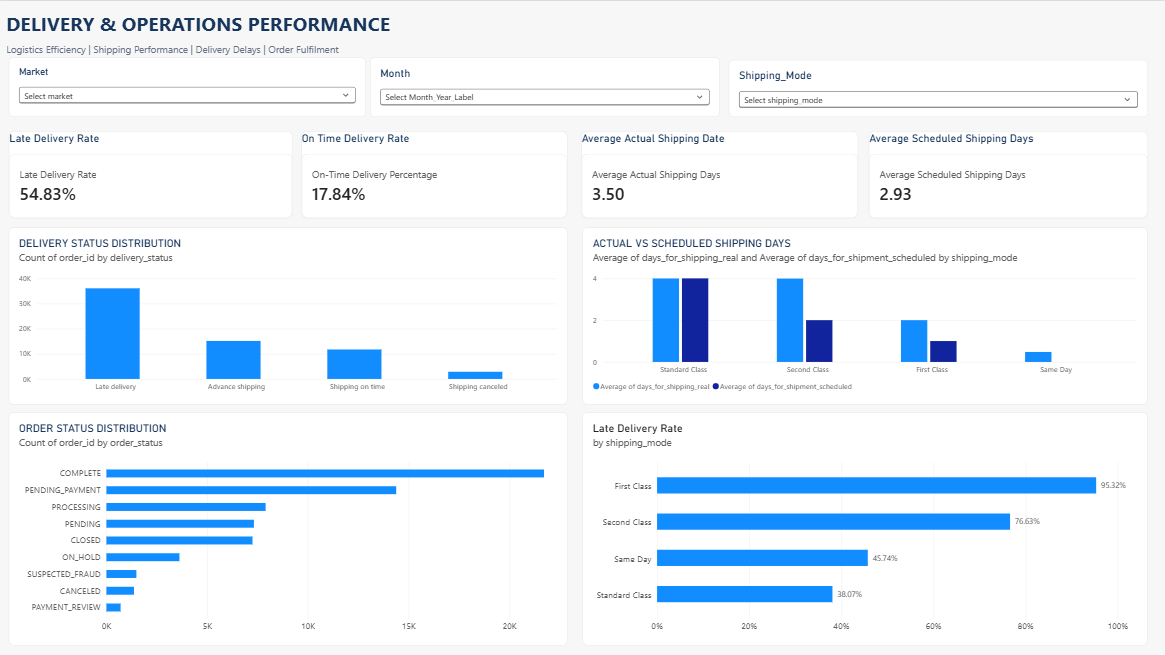

Layout of this report page (visuals, bound fields, positions):
{"tool":"powerbi","page":{"name":"Delivery & Operations Analysis","canvas":[1920,1080],"ordinal":1},"visuals":[{"type":"cardVisual","title":"Late Delivery Rate","fields":{"Data":["supply_chain_analytics supply_chain_orders.Late Delivery Rate"]},"box":[14,214,468,144],"z":0},{"type":"textbox","box":[10.9,14.5,651.5,52.5],"z":1000},{"type":"textbox","box":[10.9,67,562.8,30.8],"z":2000},{"type":"cardVisual","title":"Average Scheduled Shipping Days","fields":{"Data":["supply_chain_analytics supply_chain_orders.Average Scheduled Shipping Days"]},"box":[1430,214,460,144],"z":3000},{"type":"cardVisual","title":"Average Actual Shipping Date","fields":{"Data":["supply_chain_analytics supply_chain_orders.Average Actual Shipping Days"]},"box":[958,214,456,144],"z":4000},{"type":"cardVisual","title":"On Time Delivery Rate","fields":{"Data":["supply_chain_analytics supply_chain_orders.On-Time Delivery Percentage"]},"box":[496,214,438,144],"z":5000},{"type":"clusteredColumnChart","title":"DELIVERY STATUS DISTRIBUTION","fields":{"Category":["supply_chain_analytics supply_chain_orders.delivery_status"],"Y":["Count(supply_chain_analytics supply_chain_orders.order_id)"]},"box":[14,372,920,292],"z":6000},{"type":"clusteredColumnChart","title":"ACTUAL VS SCHEDULED SHIPPING DAYS","fields":{"Category":["supply_chain_analytics supply_chain_orders.shipping_mode"],"Y":["Avg(supply_chain_analytics supply_chain_orders.days_for_shipping_real)","Avg(supply_chain_analytics supply_chain_orders.days_for_shipment_scheduled)"]},"box":[960,372,930,292],"z":7000},{"type":"clusteredBarChart","fields":{"Category":["supply_chain_analytics supply_chain_orders.shipping_mode"],"Y":["supply_chain_analytics supply_chain_orders.Late Delivery Rate"]},"box":[960,678,930,384],"z":8000},{"type":"clusteredBarChart","title":"ORDER STATUS DISTRIBUTION","fields":{"Category":["supply_chain_analytics supply_chain_orders.order_status"],"Y":["Count(supply_chain_analytics supply_chain_orders.order_id)"]},"box":[14,678,920,384],"z":9000},{"type":"listSlicer","title":"Market","fields":{"Values":["supply_chain_analytics supply_chain_orders.market"]},"box":[14,92,588,98],"z":10000},{"type":"listSlicer","title":"Shipping_Mode","fields":{"Values":["supply_chain_analytics supply_chain_orders.shipping_mode"]},"box":[1200,96,690,94],"z":11000},{"type":"listSlicer","title":"Month","fields":{"Values":["supply_chain_analytics supply_chain_orders.Month_Year_Label"]},"box":[610,92,576,98],"z":12000}]}

Visuals, with their boxes in screenshot pixels (x1, y1, x2, y2), scaled from the page's 1920x1080 canvas onto the 1165x655 screenshot:
"Late Delivery Rate" cardVisual: rect(8, 130, 292, 217)
textbox: rect(7, 9, 402, 41)
textbox: rect(7, 41, 348, 59)
"Average Scheduled Shipping Days" cardVisual: rect(868, 130, 1147, 217)
"Average Actual Shipping Date" cardVisual: rect(581, 130, 858, 217)
"On Time Delivery Rate" cardVisual: rect(301, 130, 567, 217)
"DELIVERY STATUS DISTRIBUTION" clusteredColumnChart: rect(8, 226, 567, 403)
"ACTUAL VS SCHEDULED SHIPPING DAYS" clusteredColumnChart: rect(582, 226, 1147, 403)
clusteredBarChart - supply_chain_analytics supply_chain_orders.shipping_mode x supply_chain_analytics supply_chain_orders.Late Delivery Rate: rect(582, 411, 1147, 644)
"ORDER STATUS DISTRIBUTION" clusteredBarChart: rect(8, 411, 567, 644)
"Market" listSlicer: rect(8, 56, 365, 115)
"Shipping_Mode" listSlicer: rect(728, 58, 1147, 115)
"Month" listSlicer: rect(370, 56, 720, 115)
